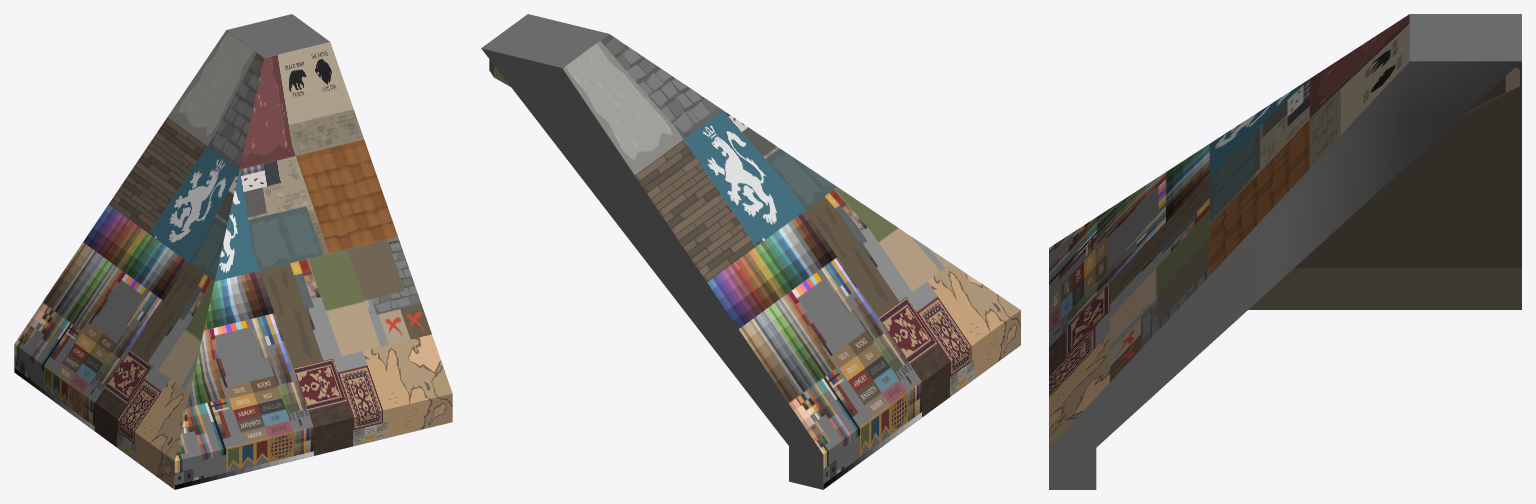
File: kingdom_SM_Bld_Castle_Roof_L_Corner_Sharp_01.gltf
The picture shows the model from 3 angles, left to right: view 1: azimuth 30°, elevation 25°; view 2: azimuth 150°, elevation 25°; view 3: azimuth 270°, elevation 25°; orthographic projection. The views are drawn at different scales.
Parts seen in each view (by area): view 1: SM_Bld_Castle_Roof_L_Corner_Sharp_01; view 2: SM_Bld_Castle_Roof_L_Corner_Sharp_01; view 3: SM_Bld_Castle_Roof_L_Corner_Sharp_01.
Part boxes in pixels (box(x1,y1,x2,y2)): SM_Bld_Castle_Roof_L_Corner_Sharp_01: box(14, 14, 452, 489); SM_Bld_Castle_Roof_L_Corner_Sharp_01: box(481, 14, 1020, 489); SM_Bld_Castle_Roof_L_Corner_Sharp_01: box(1049, 14, 1521, 489).
Bounding box in the file's own units: 5 × 5 × 5.
2 materials, 2 textured.
